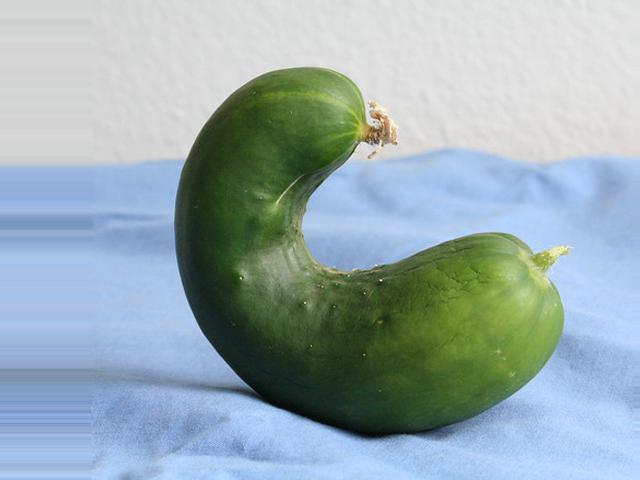cucumber: (173, 66, 564, 434)
